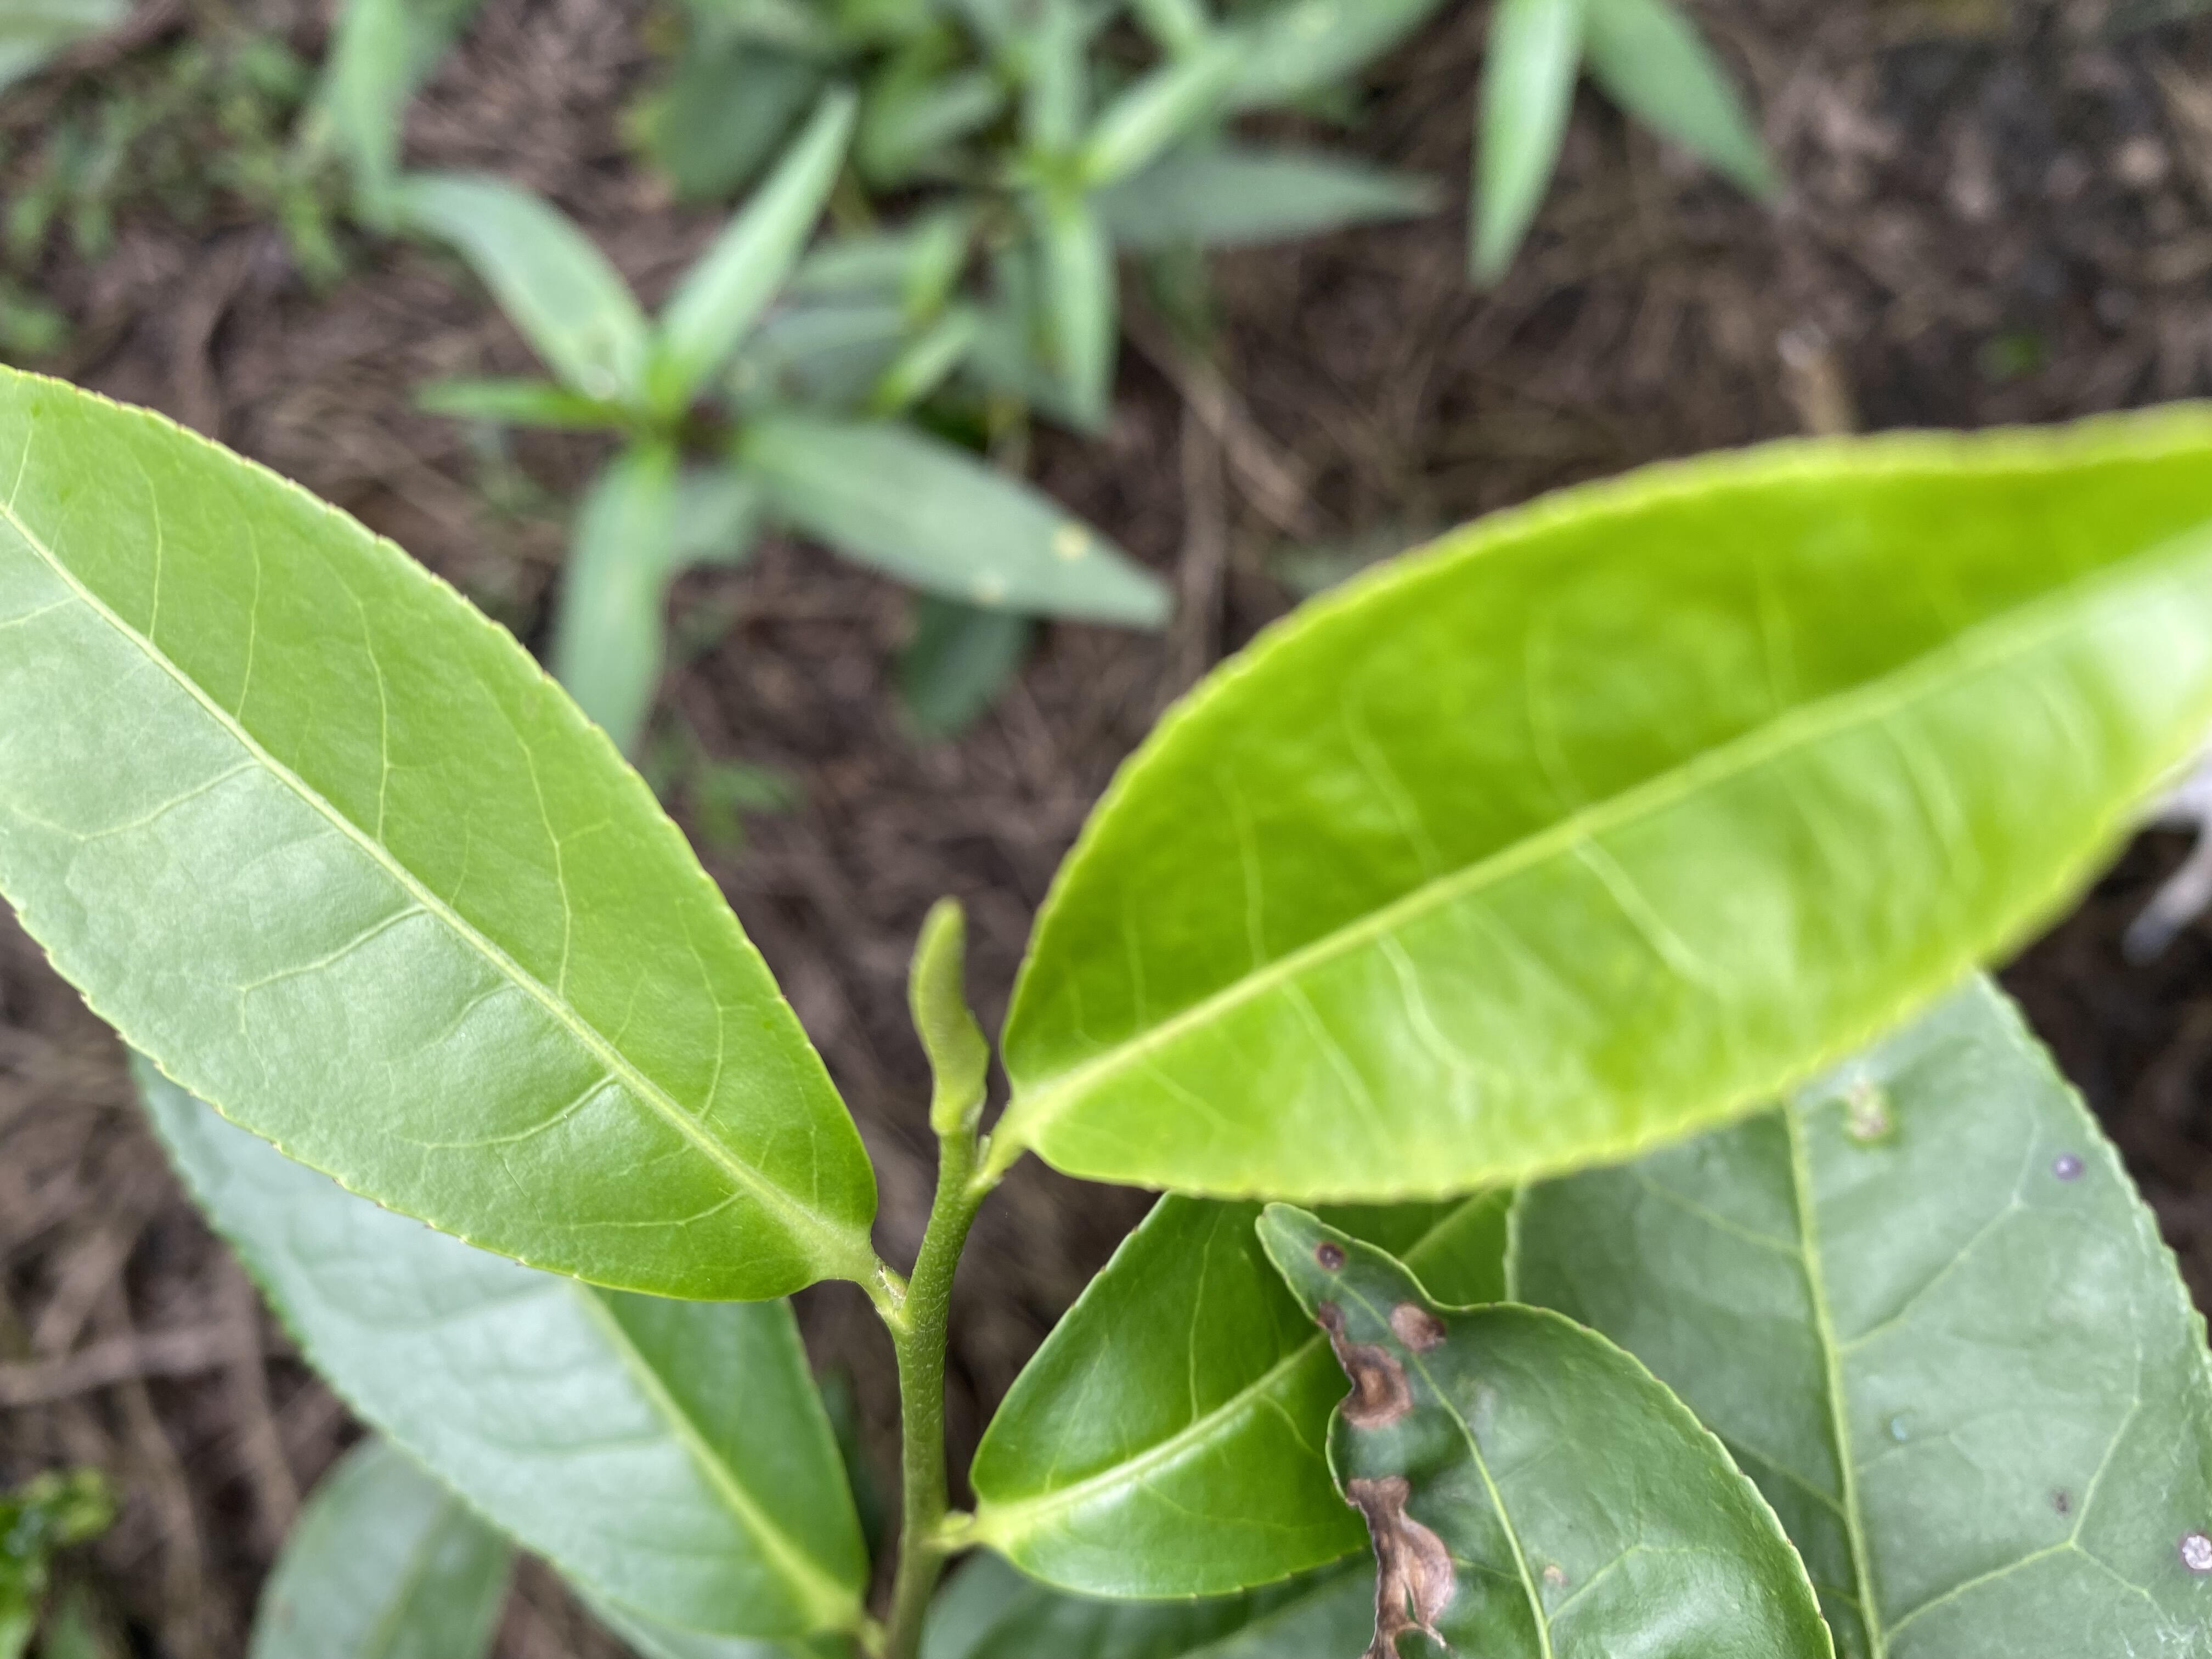healthy: (1010, 401, 2207, 1204), (3, 359, 883, 1309)
tanju_high: (1252, 1199, 1843, 1657)
